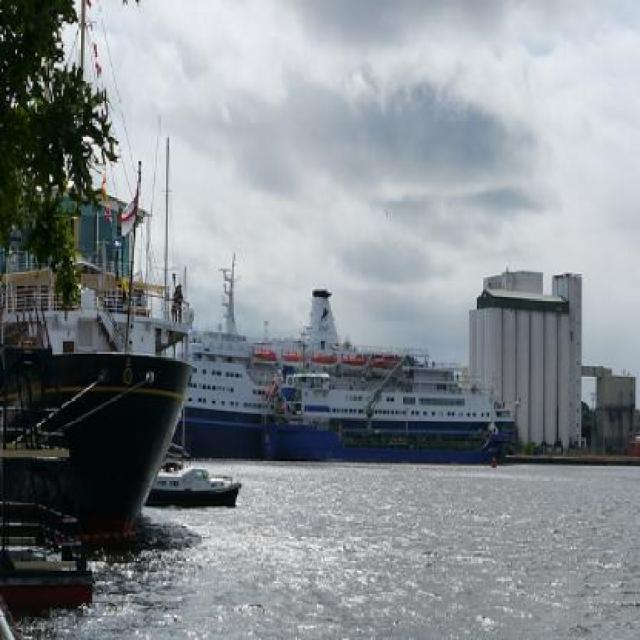ship: (172, 280, 516, 474), (147, 461, 239, 507)
